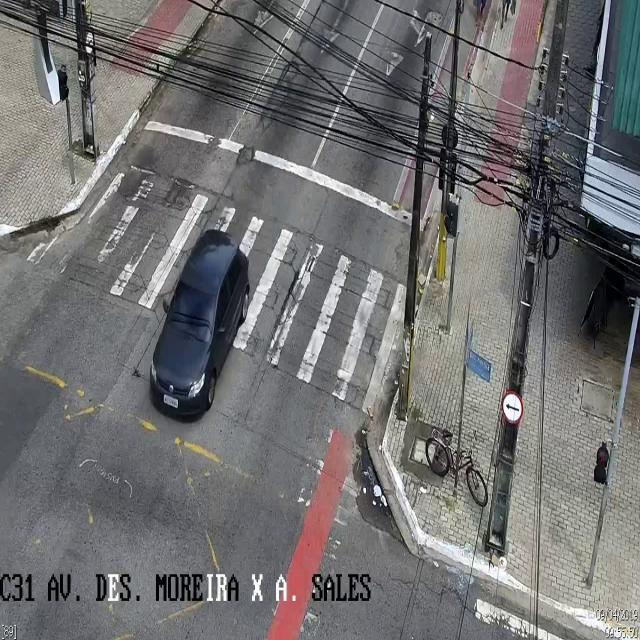Car: (150, 230, 250, 420)
